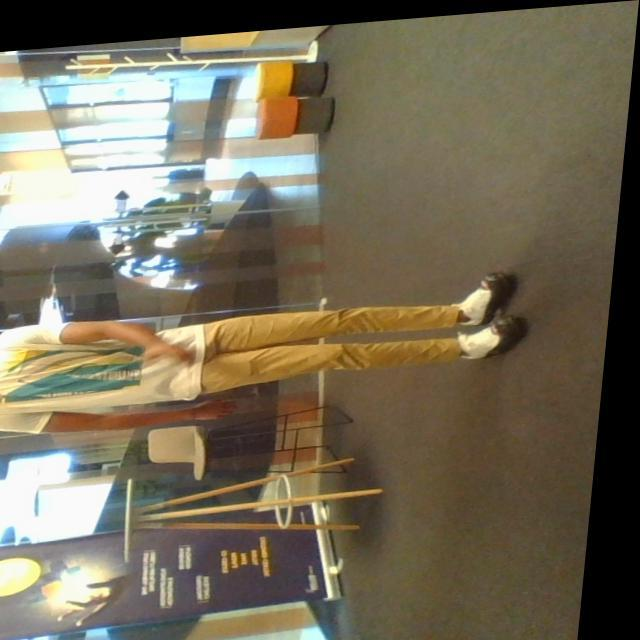shoes: (455, 312, 522, 369), (459, 258, 519, 316)
